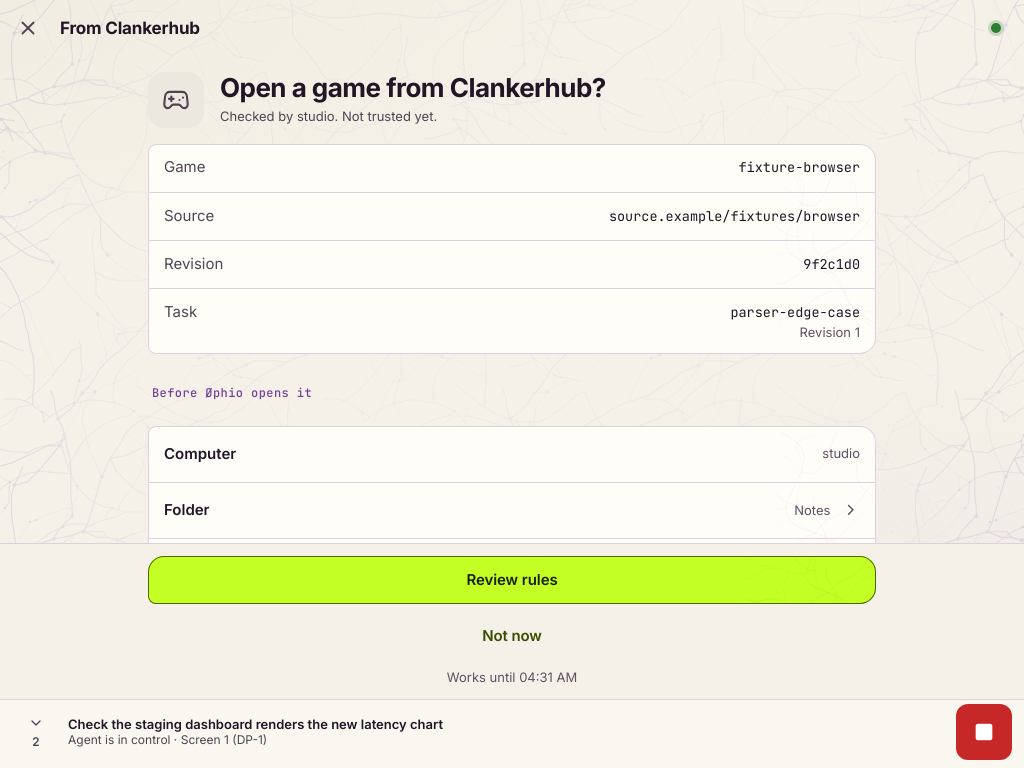
Test: does not ask an older receiver for policy previews
Click the button "Review rules": (512,580) [148,556,876,604]
Wait 100 ms
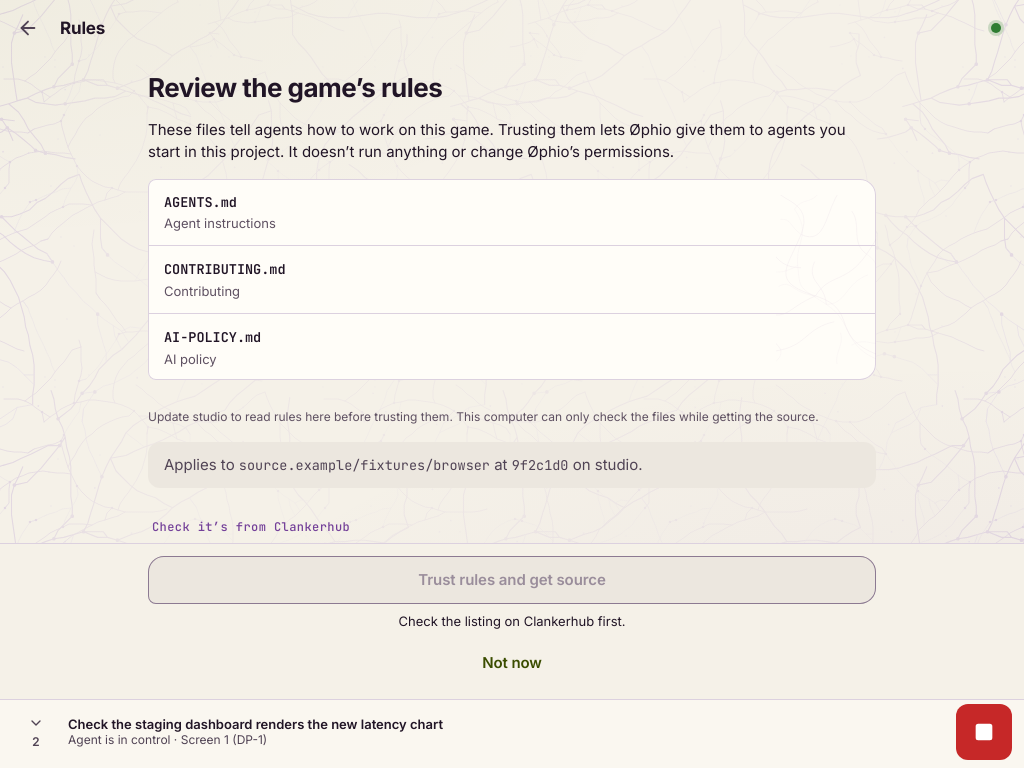
Check: the text "Update studio to read rules here" is shown, box [148,410,819,424]
